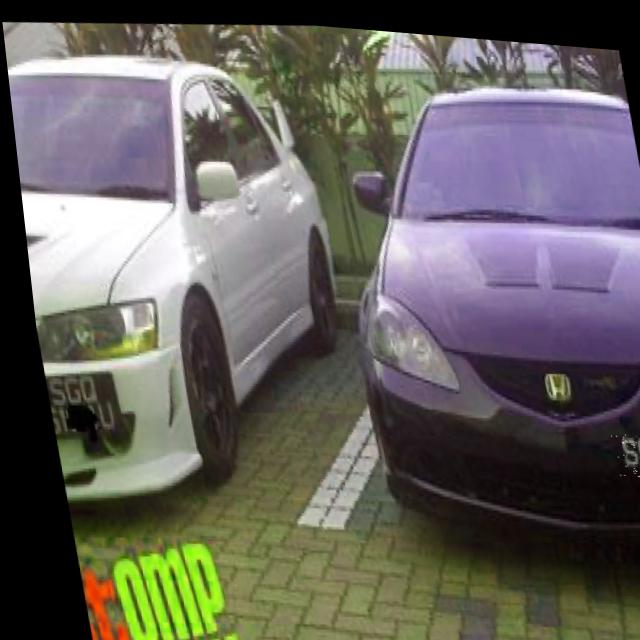license_plate: (600, 419, 640, 471)
